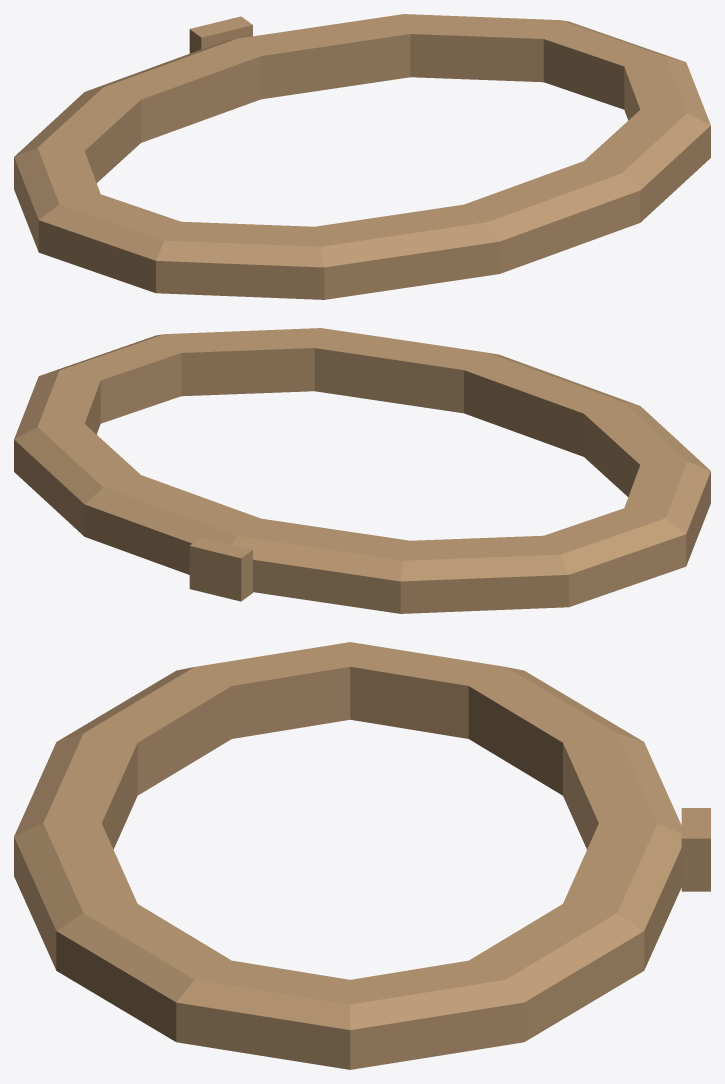
The model's file is prop-mirror-frame-blank.fbx.
3 renders of one model, top to bottom at view 1: azimuth 30°, elevation 25°; view 2: azimuth 150°, elevation 25°; view 3: azimuth 270°, elevation 25°, orthographic. The views are drawn at different scales.
Visible parts, largest first — view 1: prop-mirror-frame-blank; view 2: prop-mirror-frame-blank; view 3: prop-mirror-frame-blank.
Part boxes in pixels (left/top/right/bottom): prop-mirror-frame-blank: left=14, top=14, right=710, bottom=299; prop-mirror-frame-blank: left=14, top=328, right=710, bottom=613; prop-mirror-frame-blank: left=14, top=642, right=710, bottom=1069.
Bounding box in the file's own units: 37.6 × 2.4 × 28.6.
